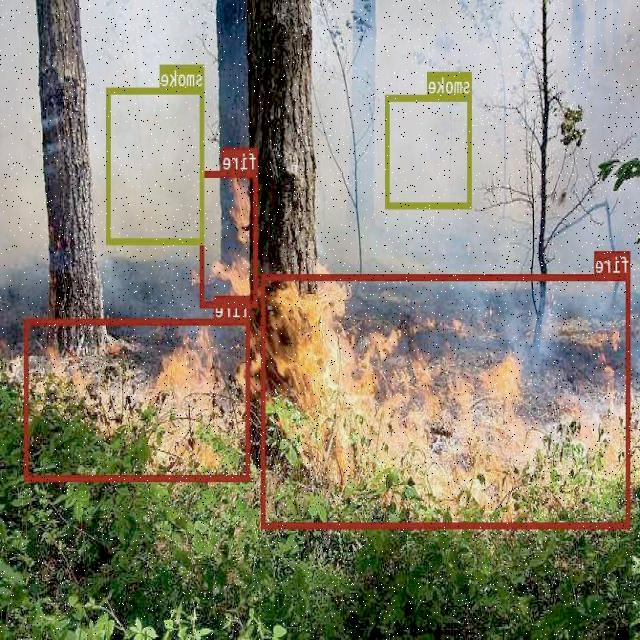fire: (262, 274, 631, 527), (26, 318, 250, 480), (202, 170, 258, 306)
smoke: (107, 86, 205, 244), (386, 94, 473, 208)
